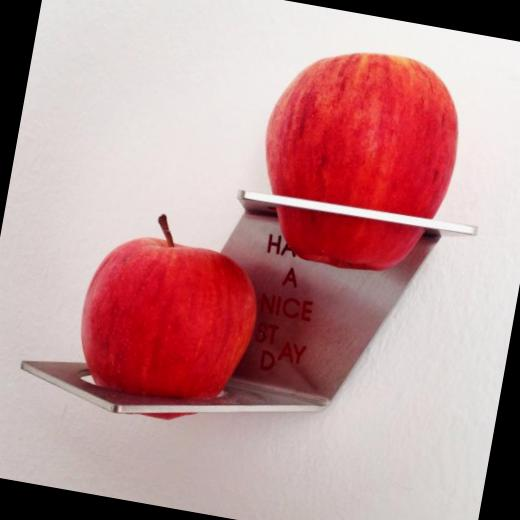Apple: (260, 26, 477, 256), (66, 203, 273, 432)
